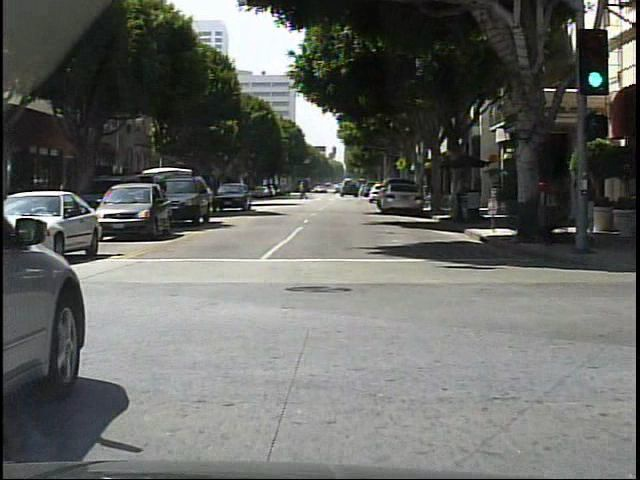person: (575, 158, 597, 244), (455, 172, 471, 220), (535, 172, 548, 231), (296, 180, 305, 199)
